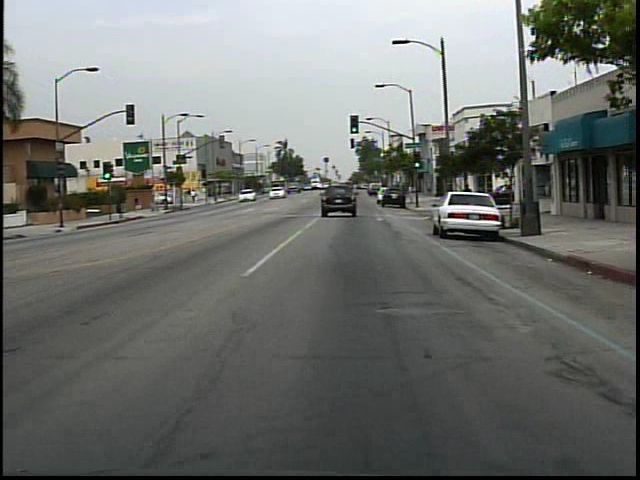person: (457, 178, 477, 217), (129, 191, 149, 220), (190, 188, 198, 206)
